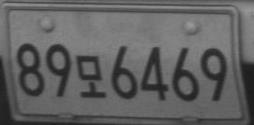4: (139, 45, 169, 100)
6: (171, 46, 200, 102), (111, 45, 138, 99)
8: (16, 42, 45, 97)
9: (200, 46, 227, 101), (46, 43, 71, 97)
모: (75, 54, 106, 97)
